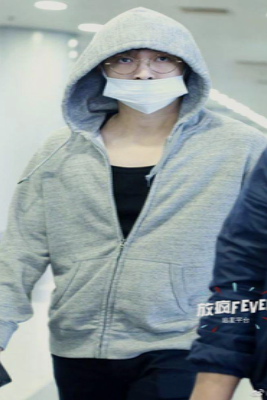mask_weared_incorrect: (98, 50, 188, 114)
